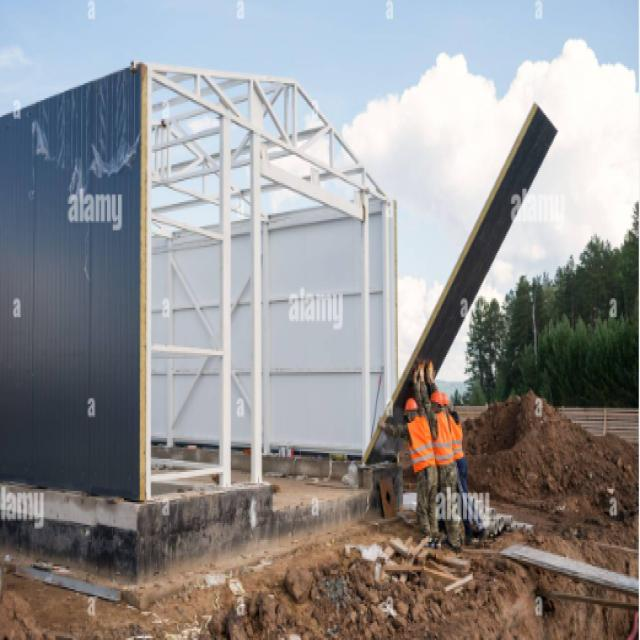hard_hat: (404, 397, 418, 422), (429, 390, 443, 415), (440, 391, 450, 412)
shoes: (438, 530, 463, 554), (461, 525, 488, 546), (416, 534, 442, 550)
vest: (406, 416, 437, 474), (429, 412, 455, 468), (445, 408, 466, 461)
